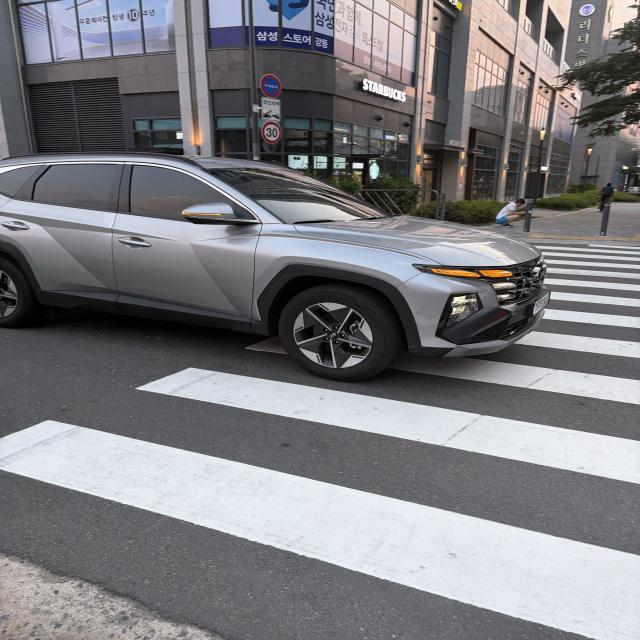car: (1, 122, 582, 398)
